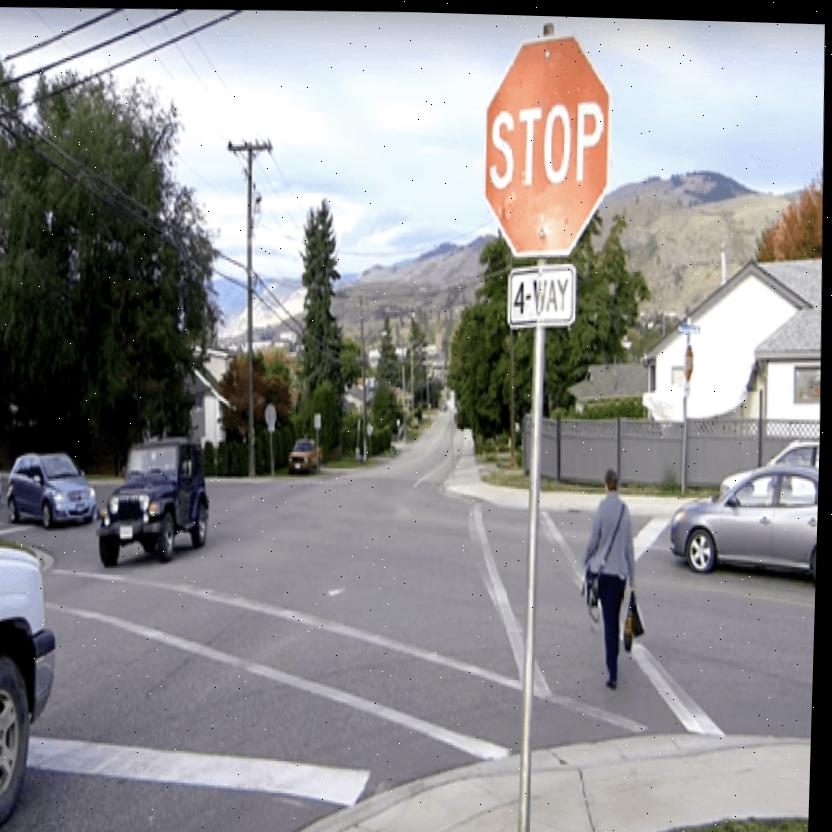Pole: (515, 320, 558, 832), (682, 390, 691, 487), (271, 432, 278, 475)
Sign: (480, 33, 616, 261), (268, 403, 279, 424)
